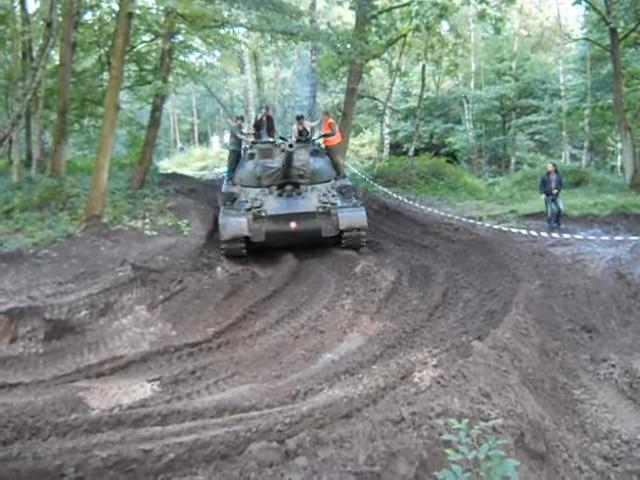tank: (221, 139, 369, 260)
